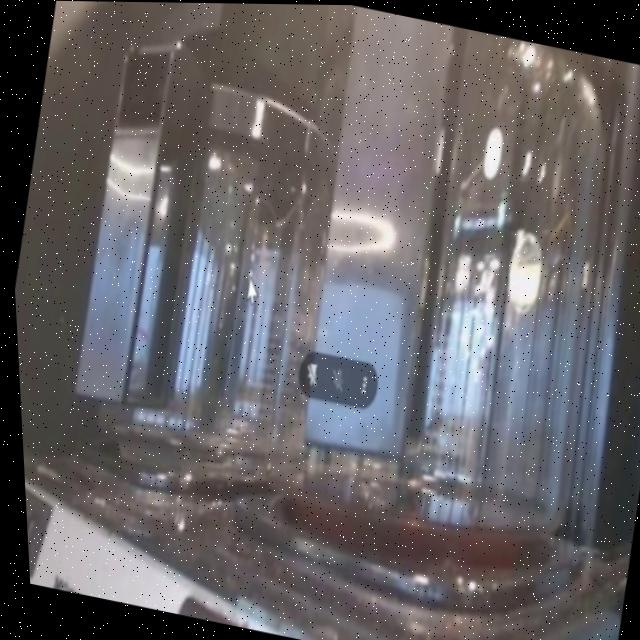nocoffee: (255, 43, 640, 569), (25, 50, 360, 530)
